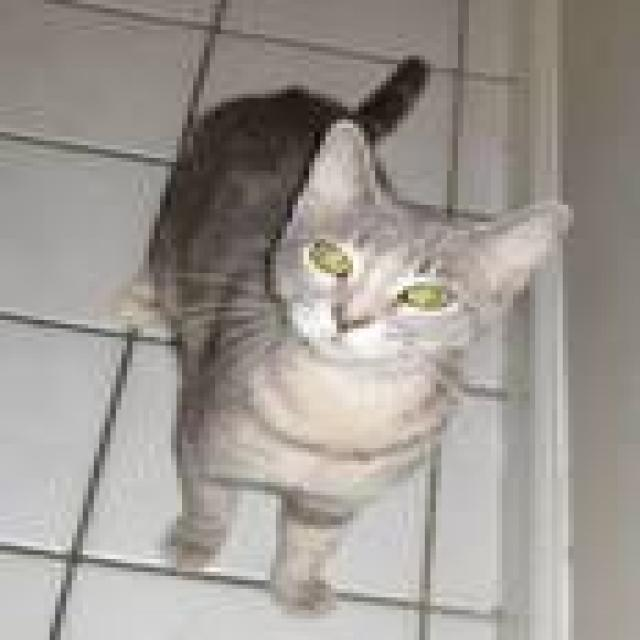cat: (110, 56, 574, 614)
